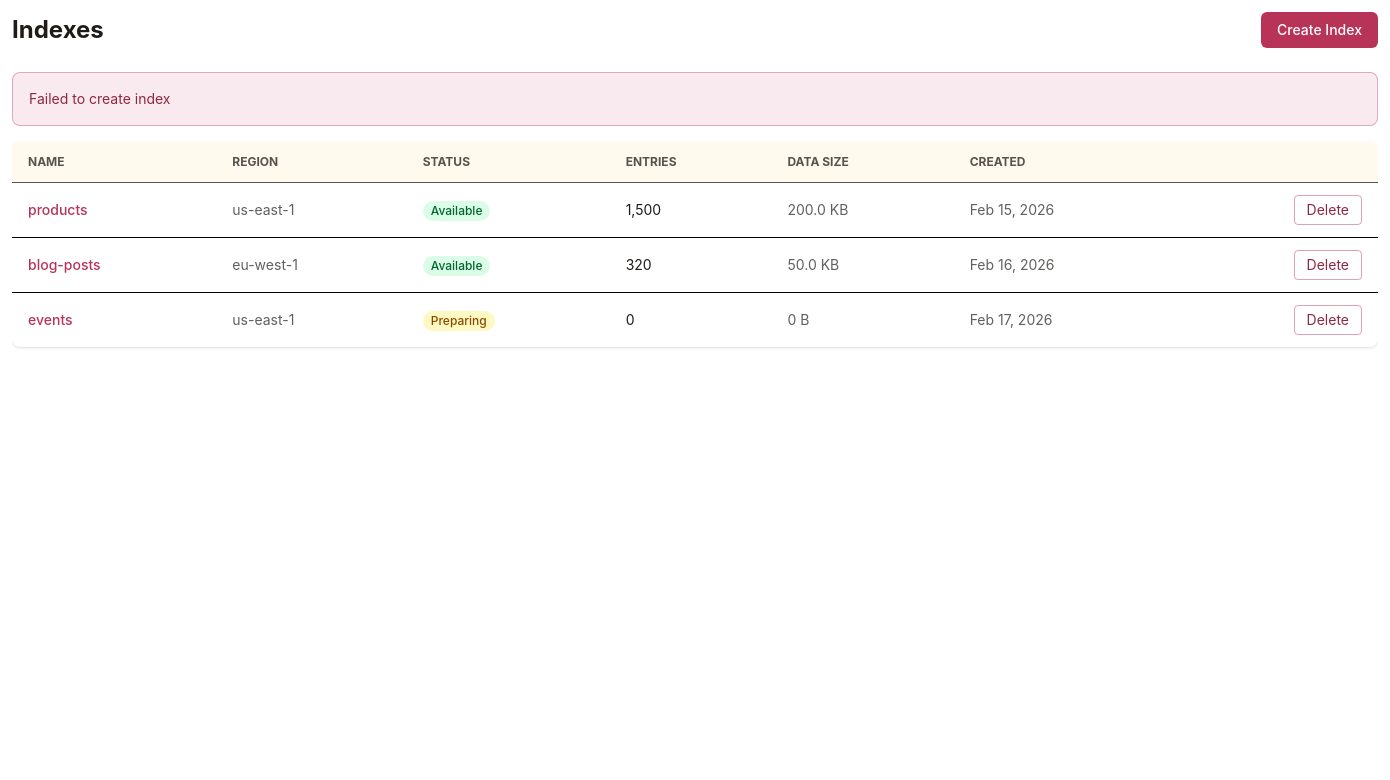
it: Index list page › renders create failure in one place when dialog is open
Click the button "Create Index" at (1320, 30), box [1261, 12, 1378, 48]
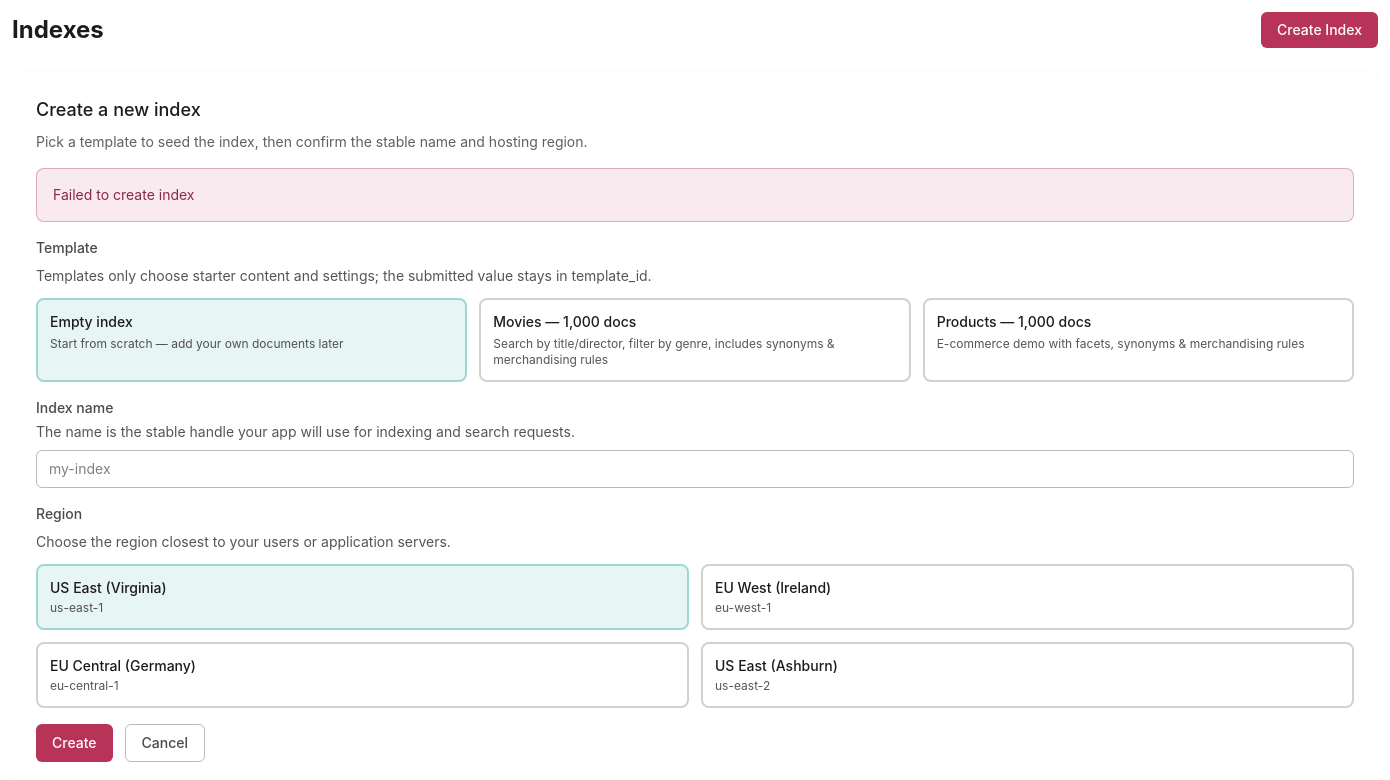
Expected: the number of messages is 1, [36, 168, 1354, 222]
